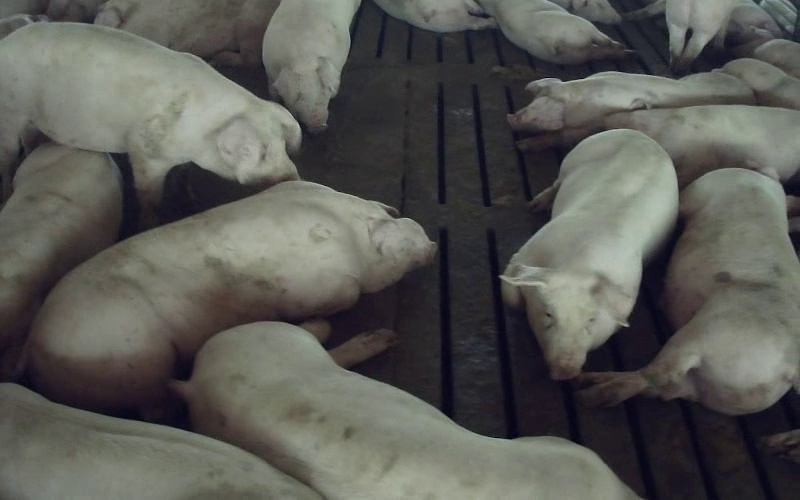pig: (25, 182, 435, 418), (173, 321, 637, 499), (579, 168, 799, 414), (501, 129, 677, 379), (0, 142, 121, 350), (507, 72, 755, 149), (604, 105, 799, 187), (479, 0, 628, 63), (374, 0, 495, 31)
